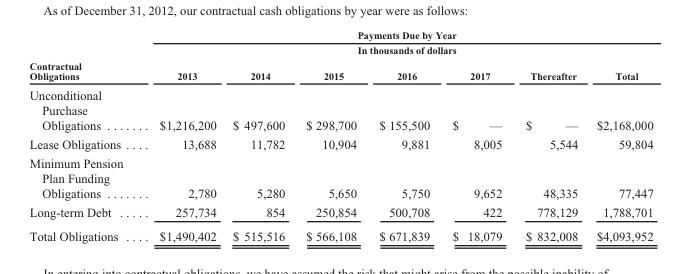table: (28, 29, 652, 242)
table column: (28, 29, 140, 242), (140, 29, 223, 242), (294, 29, 367, 242), (367, 29, 440, 242), (440, 29, 513, 242), (513, 29, 586, 242), (223, 29, 294, 242), (586, 29, 652, 242)
table column header: (28, 29, 652, 84)
table row: (28, 84, 652, 134), (28, 153, 652, 202), (28, 29, 652, 62), (28, 62, 652, 84), (28, 202, 652, 224), (28, 134, 652, 153), (28, 224, 652, 242)
table spanning cell: (140, 29, 652, 62), (28, 29, 140, 84)
